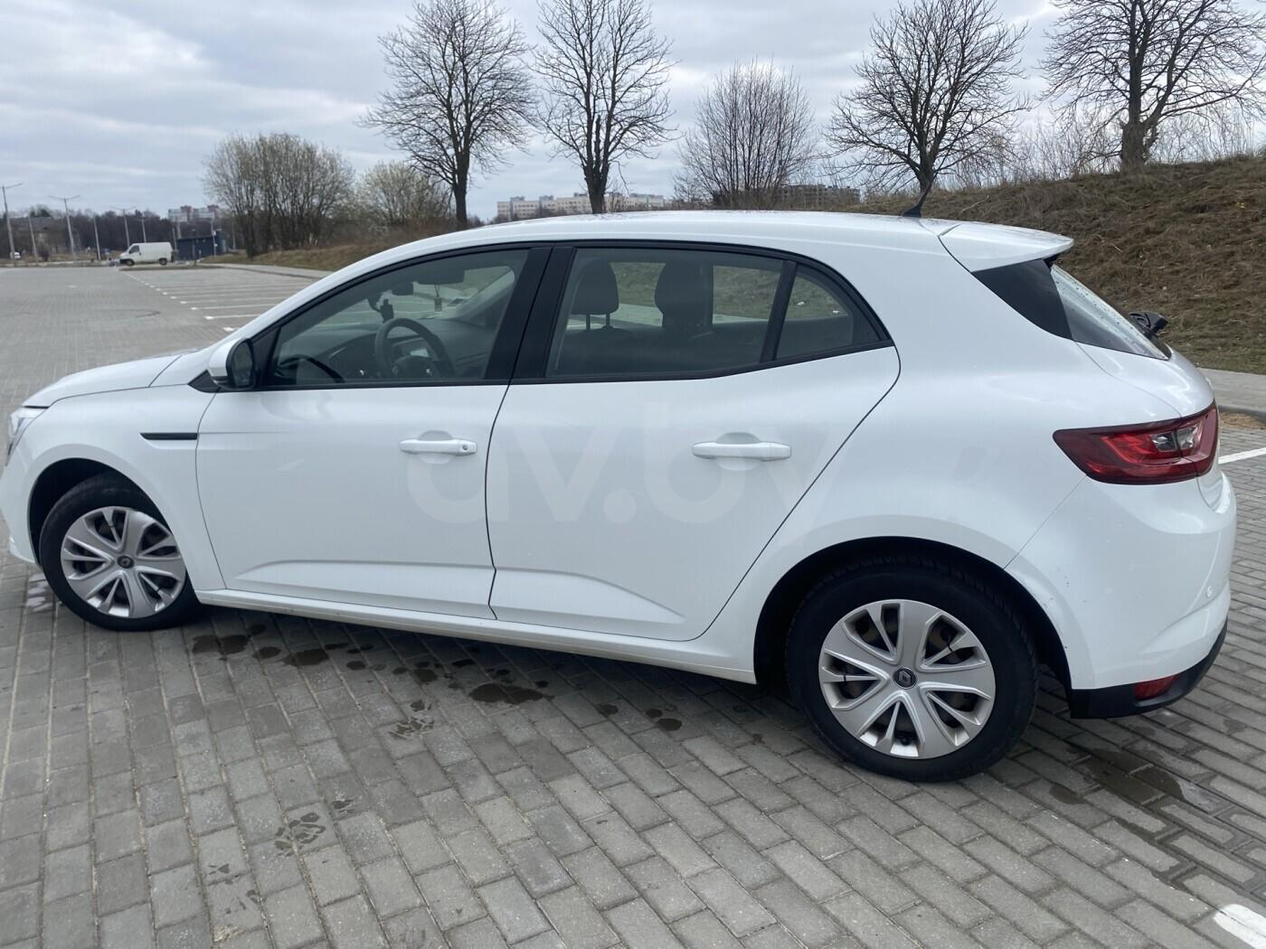Megane_2016-2020: (6, 194, 1234, 780)
